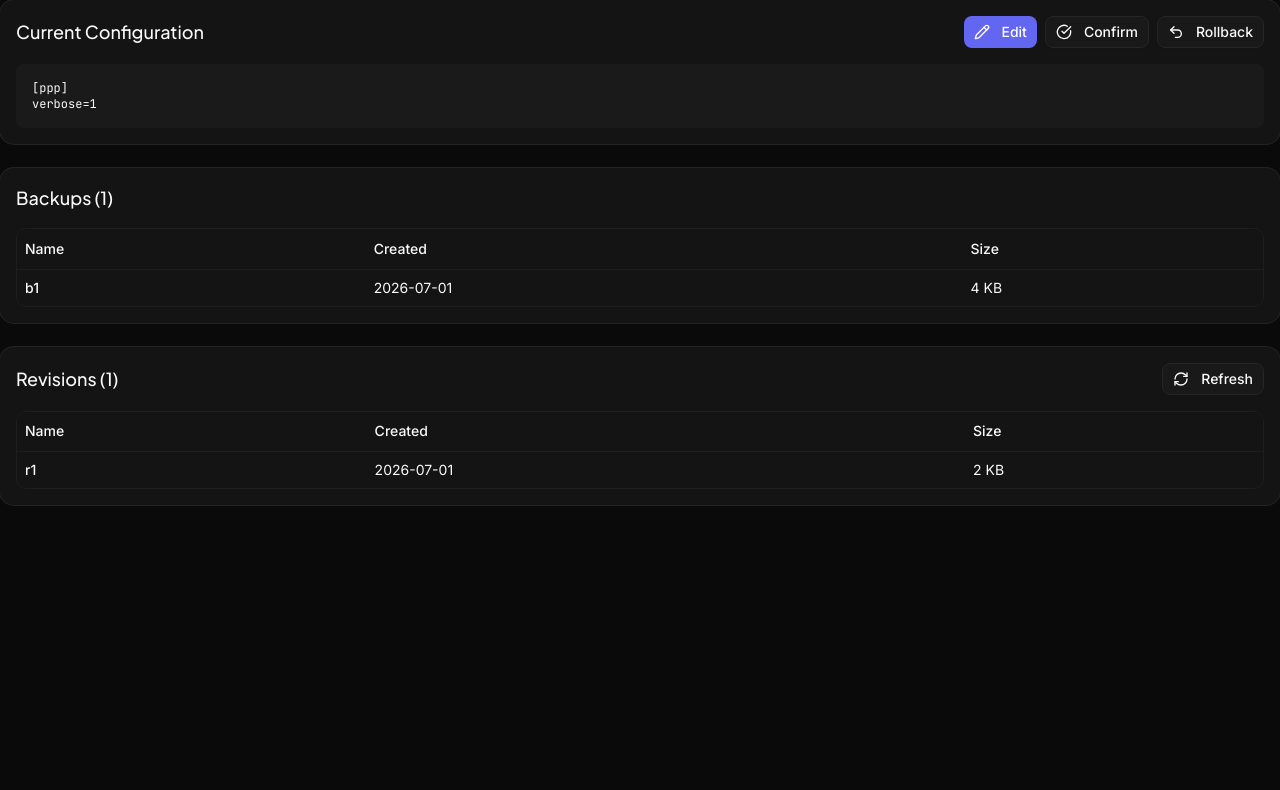
Scenario: ConfigPage server validation › renders issue without message as 'Unknown issue'
Click the button "Edit": coordinates (1000, 32) [964,16,1037,48]
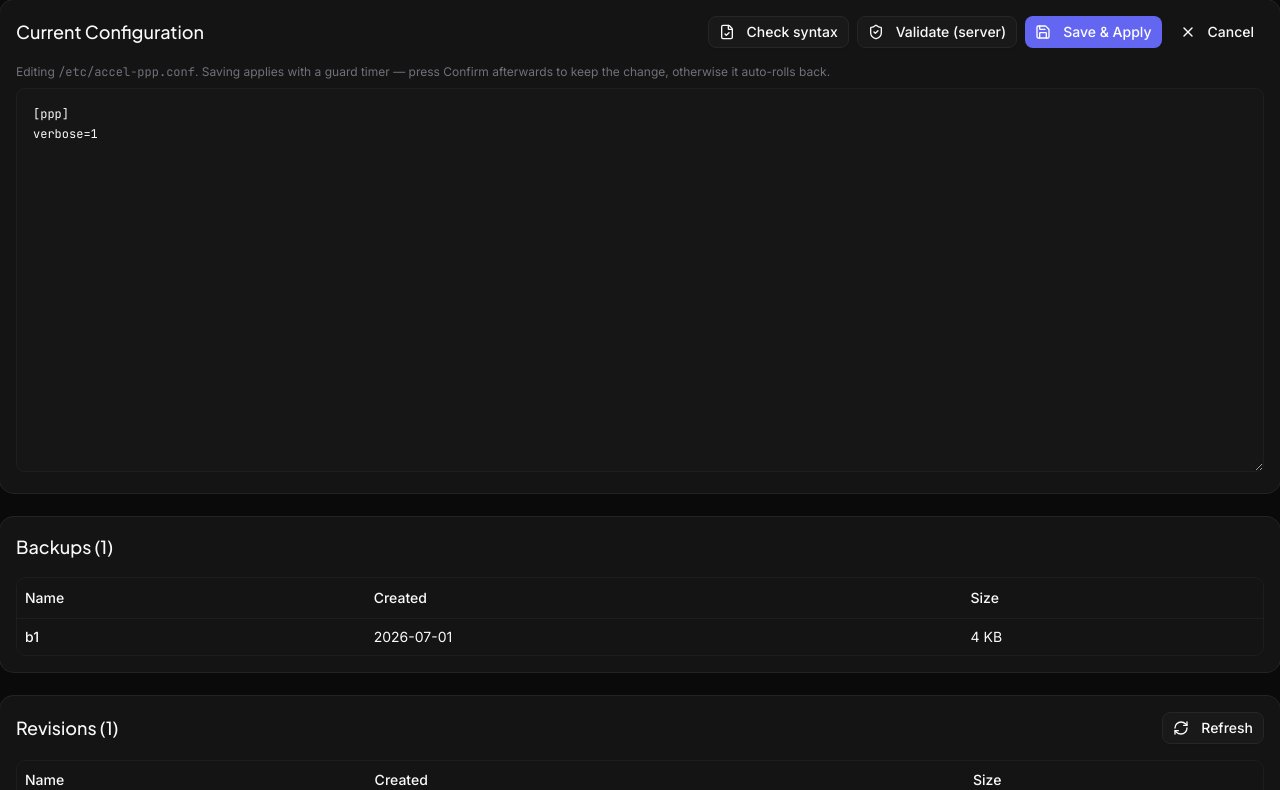
Click the button "Validate (server)": coordinates (937, 32) [857,16,1017,48]
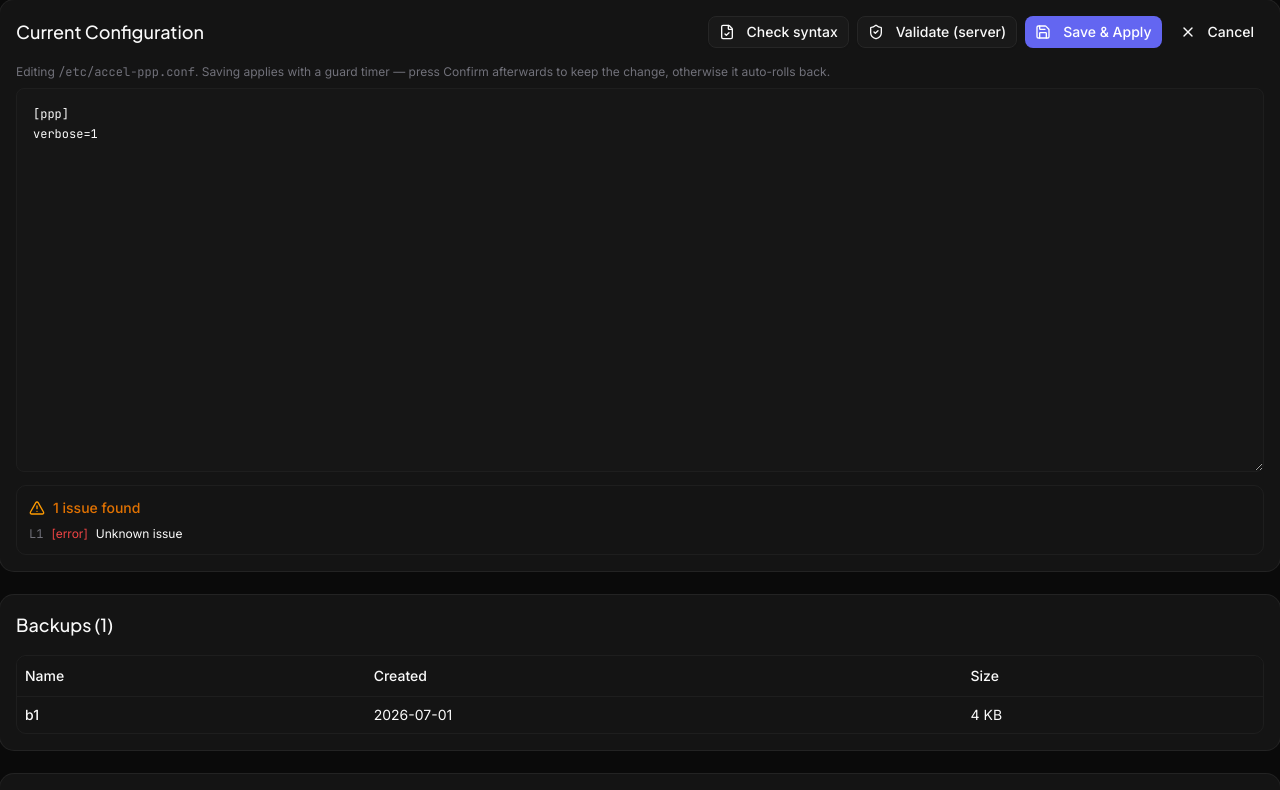
Result: the text "Unknown issue" is shown at [96,526,182,542]
